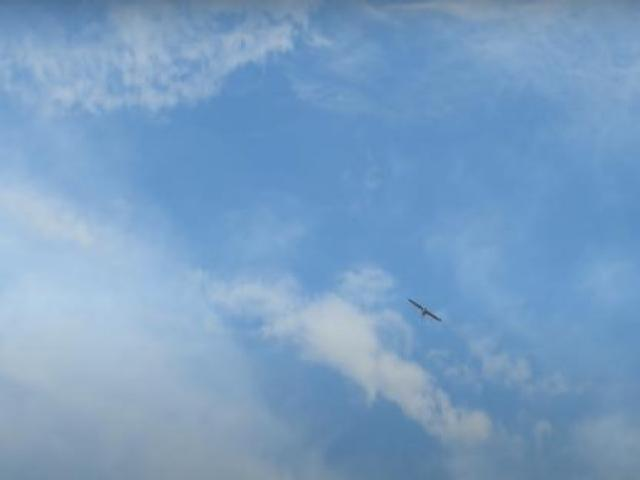uav: (404, 292, 445, 332)
